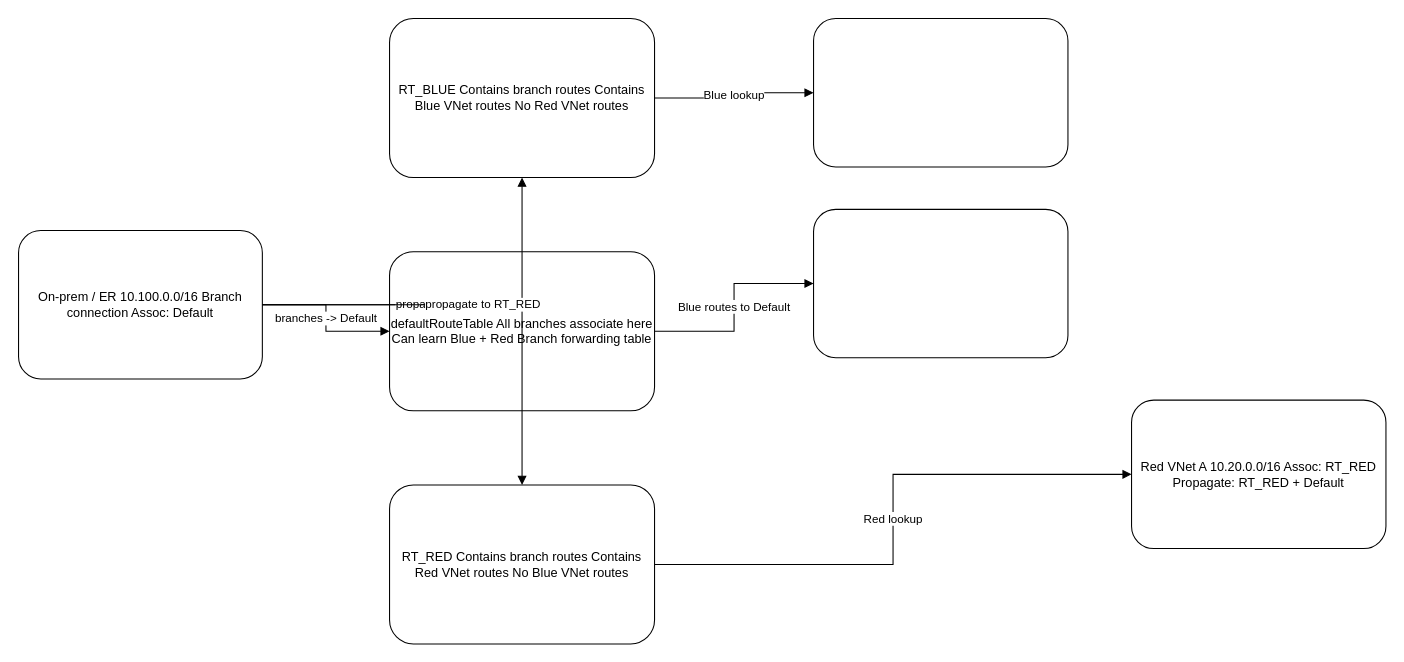
Image size: 1404x662. Some labels were removed from this diagram. The centre of each missing label's shape, as x and y in pixels:
"Blue VNet A 10.10.0.0/16 Assoc: RT_BLUE Propagate: RT_BLUE + Default" goes at point 940,92.
"Blue VNet B 10.11.0.0/16 Assoc: RT_BLUE Propagate: RT_BLUE + Default" goes at point 940,283.
